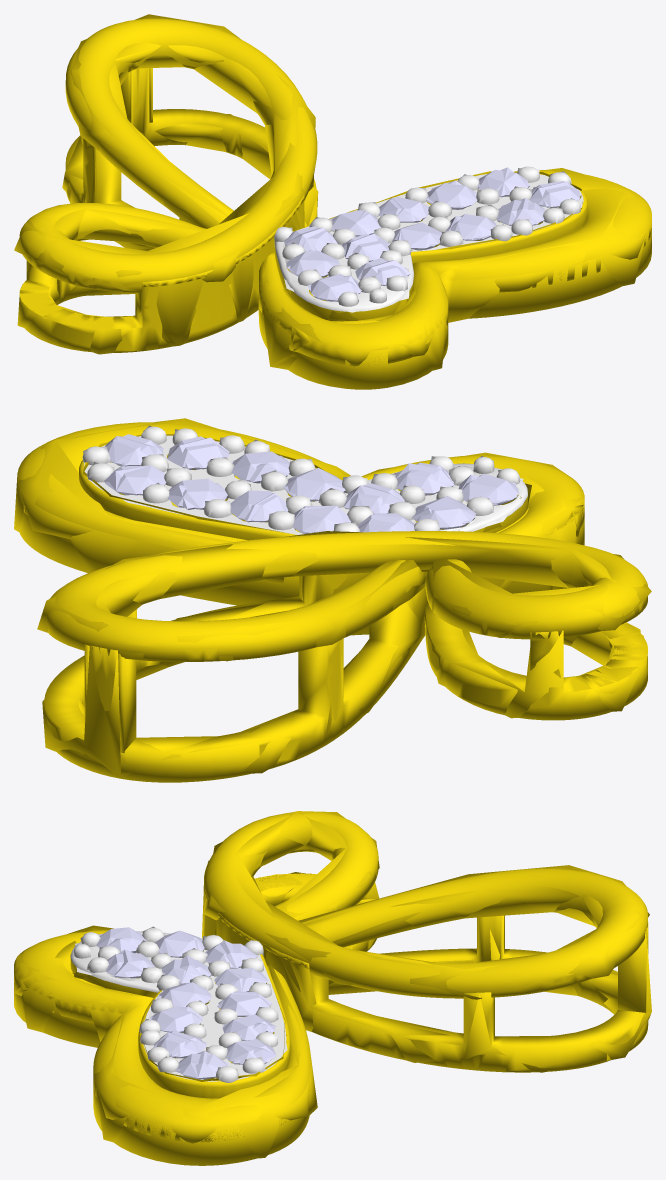
Rendered from DCP-D000710776.glb.
The picture shows the model from 3 angles, top to bottom: view 1: azimuth 30°, elevation 25°; view 2: azimuth 150°, elevation 25°; view 3: azimuth 270°, elevation 25°; orthographic projection. The views are drawn at different scales.
Visible parts, largest first — view 1: highPolyMesh, lowPolyMesh; view 2: highPolyMesh, lowPolyMesh; view 3: highPolyMesh, lowPolyMesh.
Part boxes in pixels (x1,y1,x2,y2): highPolyMesh: [19, 18, 651, 389]; lowPolyMesh: [14, 14, 646, 370]; highPolyMesh: [17, 422, 647, 782]; lowPolyMesh: [14, 418, 651, 776]; highPolyMesh: [14, 812, 648, 1165]; lowPolyMesh: [14, 811, 651, 1158].
Bounding box in the file's own units: 0.0161 × 0.0034 × 0.0159.
